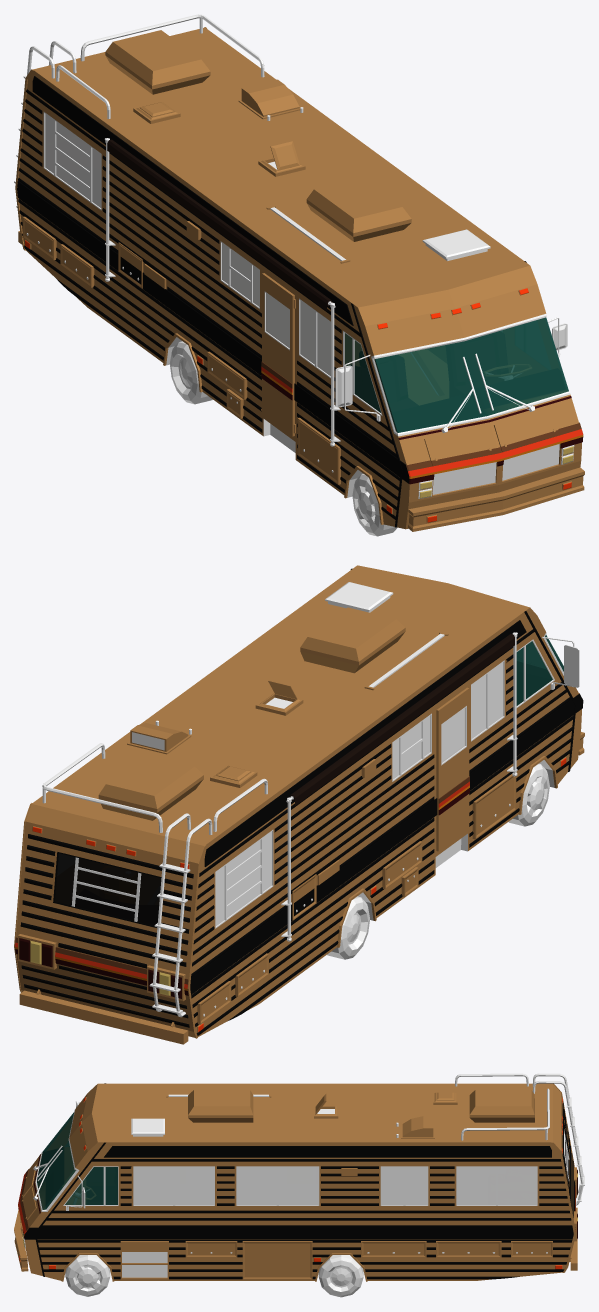
File: uploads_files_2225507_LowPoly-Motorhome02_FBX.FBX
The picture shows the model from 3 angles, top to bottom: view 1: azimuth 30°, elevation 25°; view 2: azimuth 150°, elevation 25°; view 3: azimuth 270°, elevation 25°; orthographic projection. The views are drawn at different scales.
Visible parts, largest first — view 1: Motorhome_02, door, sunblind, bumper_f, chair_l, chair_r, wheel_b_r, wheel_f_r, mirror_r; view 2: Motorhome_02, door, sunblind, bumper_b, ladder, wheel_b_r, wheel_f_r, lights, tailLights, mirror_r; view 3: Motorhome_02, wheel_b_l, wheel_f_l, ladder, chair_r, bumper_f, lights.
Part boxes in pixels (box(x1,y1,x2,y2)): Motorhome_02: box(15, 14, 583, 529); door: box(261, 273, 294, 436); sunblind: box(104, 138, 340, 446); bumper_f: box(408, 467, 584, 531); chair_l: box(446, 332, 507, 397); chair_r: box(351, 351, 417, 411); wheel_b_r: box(169, 341, 212, 404); wheel_f_r: box(352, 474, 397, 536); mirror_r: box(335, 355, 380, 421); Motorhome_02: box(14, 565, 583, 1038); door: box(436, 687, 469, 851); sunblind: box(281, 632, 517, 941); bumper_b: box(19, 989, 188, 1044); ladder: box(149, 813, 212, 1017); wheel_b_r: box(327, 896, 369, 959); wheel_f_r: box(508, 763, 549, 826); lights: box(18, 757, 565, 1032); tailLights: box(19, 938, 181, 998); mirror_r: box(542, 637, 579, 689); Motorhome_02: box(18, 1073, 575, 1281); wheel_b_l: box(318, 1255, 363, 1297); wheel_f_l: box(65, 1255, 110, 1296); ladder: box(532, 1073, 584, 1205); chair_r: box(87, 1167, 117, 1200); bumper_f: box(14, 1210, 28, 1271); lights: box(19, 1097, 576, 1268).
Bounding box in the file's own units: 35.23 × 35.13 × 106.
